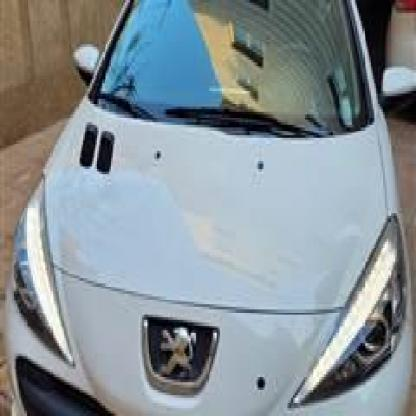Car: (0, 0, 402, 416)
